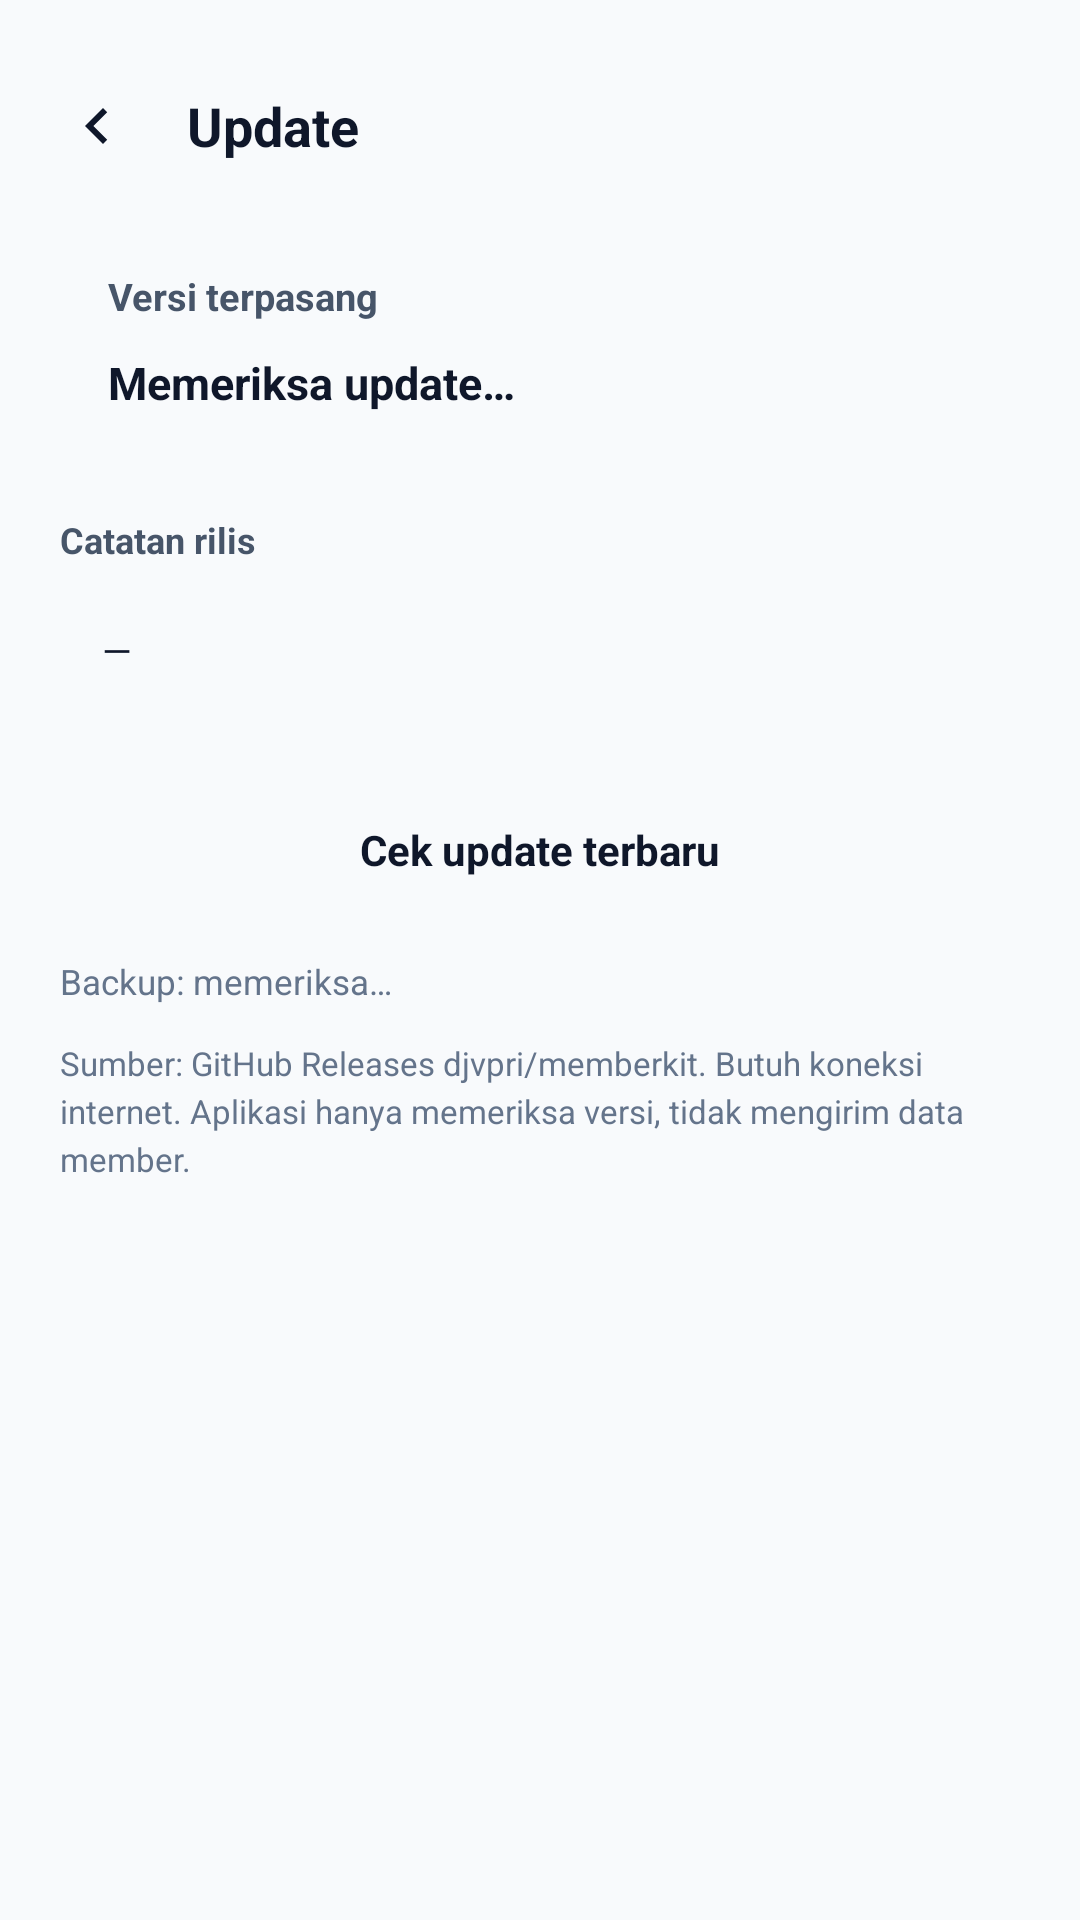

Locate icon controls on the screen. Image size 1080×1920, boxes as (x1=x1, y1=y1, x2=x2, y2=y2).
Kembali: (x1=85, y1=108, x2=107, y2=144)
